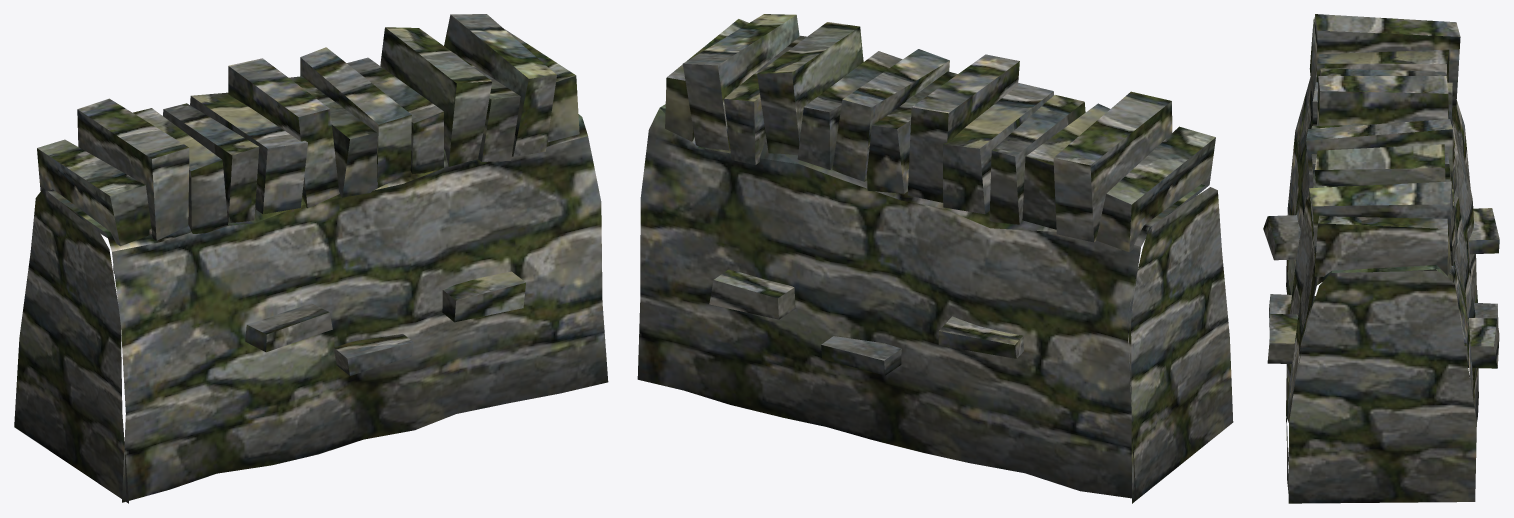
The model's file is wall_drystone_straight.glb.
3 renders of one model, left to right at view 1: azimuth 30°, elevation 25°; view 2: azimuth 150°, elevation 25°; view 3: azimuth 270°, elevation 25°, orthographic. The views are drawn at different scales.
Visible parts, largest first — view 1: wall_drystone_straight; view 2: wall_drystone_straight; view 3: wall_drystone_straight.
Boxes of the visible parts, <box> form: wall_drystone_straight: <box>14,14,608,503</box>; wall_drystone_straight: <box>637,14,1233,503</box>; wall_drystone_straight: <box>1263,14,1499,503</box>.
Bounding box in the file's own units: 2.05 × 1.3 × 0.9321.
Materials: 1 (1 with a texture image).
